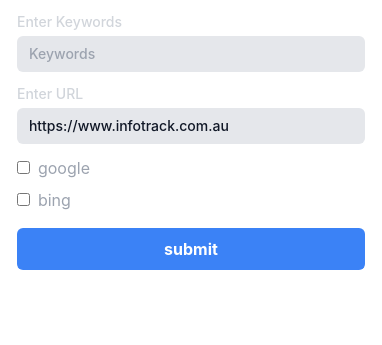
Scenario: SearchForm Component › should show error when submitting without URL and search engine
In the field labelled "Enter Keywords": {"x": 191, "y": 54} [17,36,365,72], type "test keywords"
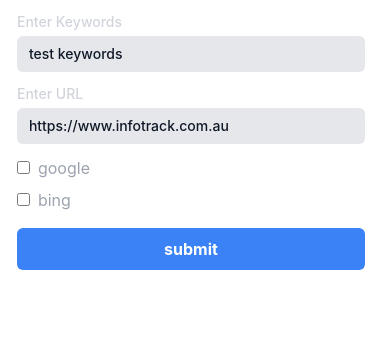
Clear the field labelled "Enter URL": {"x": 191, "y": 126} [17,108,365,144]
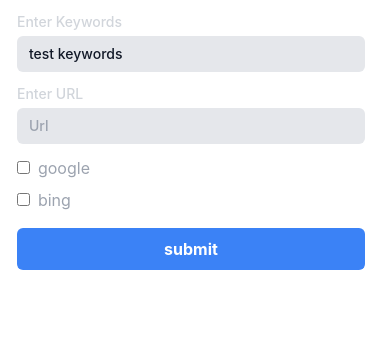
Click the button "submit": {"x": 191, "y": 249} [17,228,365,270]
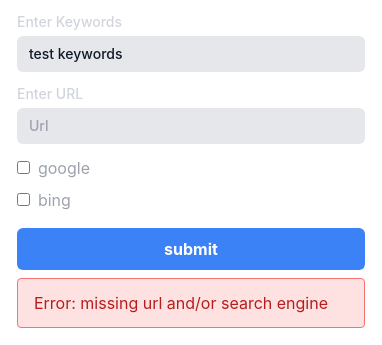
Result: the text "Error: missing url and/or search engine" is shown at [34,291,348,315]
